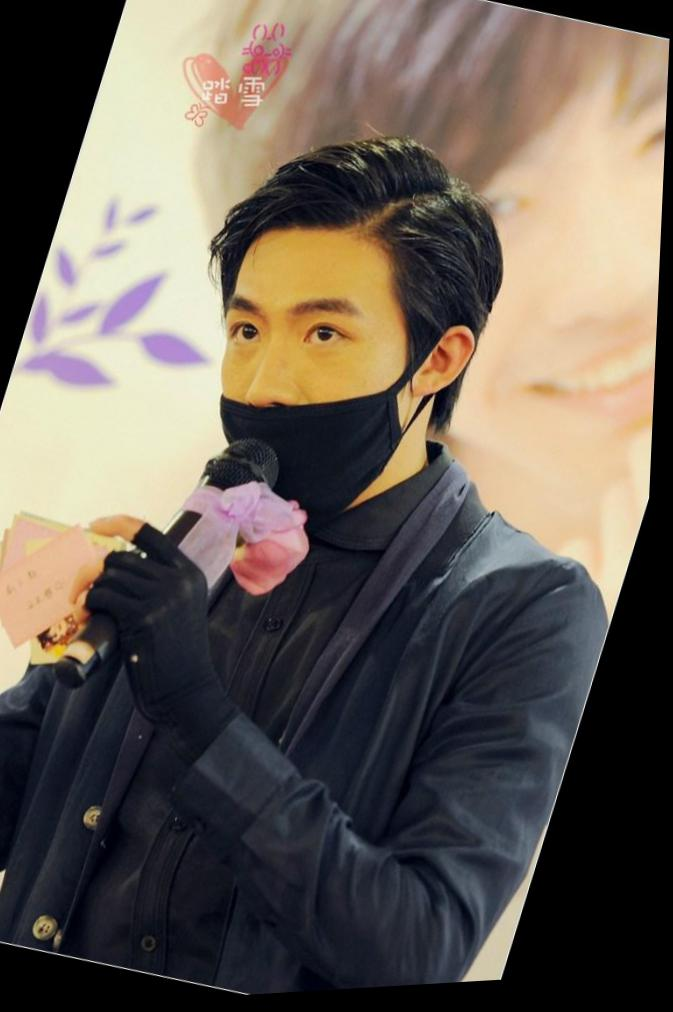NONE: (317, 8, 672, 508)
WRONG: (174, 266, 435, 538)
